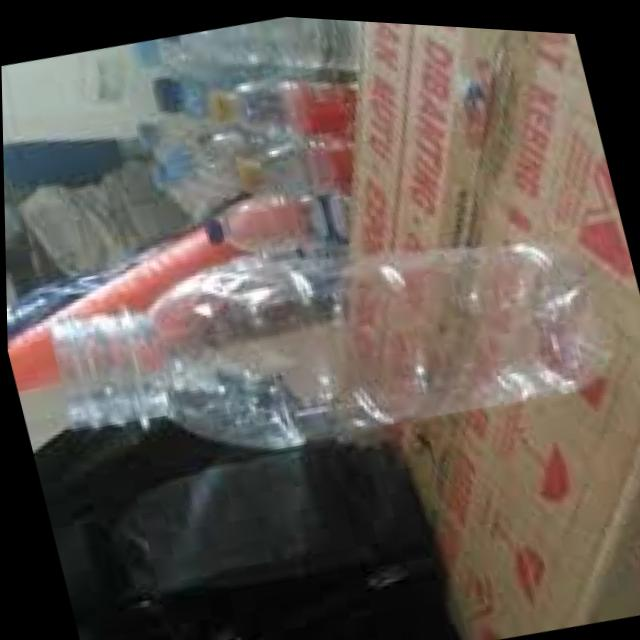Dry: (21, 151, 605, 503)
